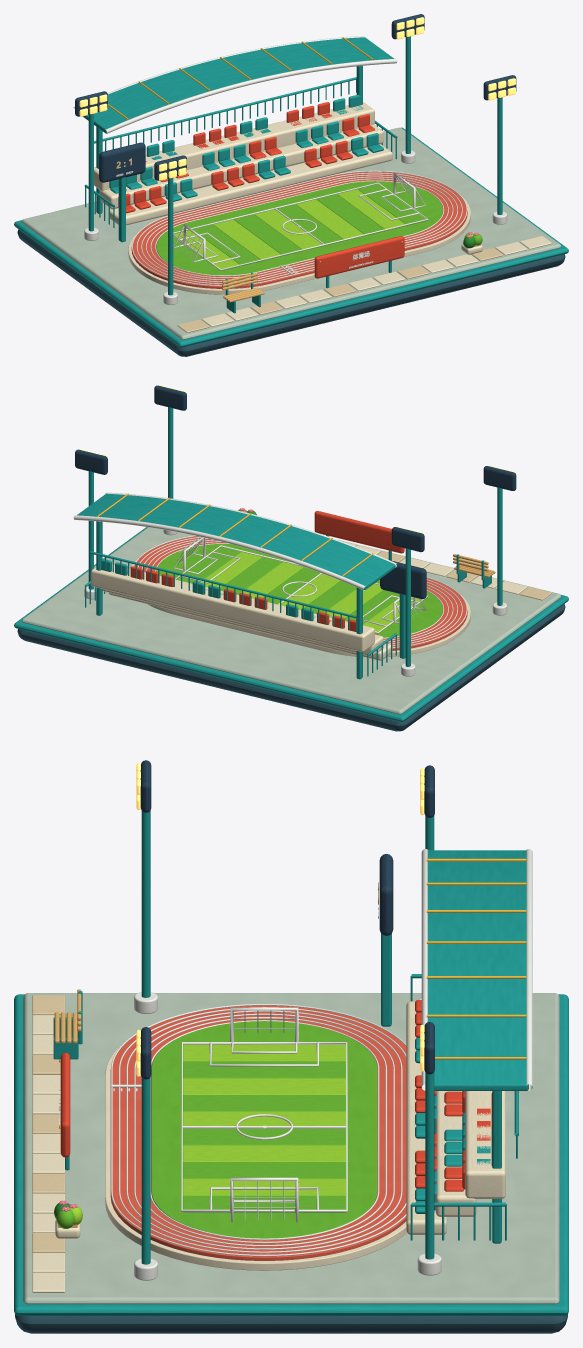
Rendered from 05_stadium.glb.
The picture shows the model from 3 angles, top to bottom: view 1: azimuth 30°, elevation 25°; view 2: azimuth 150°, elevation 25°; view 3: azimuth 270°, elevation 25°; orthographic projection. The views are drawn at different scales.
Visible parts, largest first — view 1: 05_stadium_Architecture, 05_stadium_Display_Base, 05_stadium_Signage, 05_stadium_Landscaping; view 2: 05_stadium_Architecture, 05_stadium_Display_Base, 05_stadium_Signage, 05_stadium_Landscaping; view 3: 05_stadium_Architecture, 05_stadium_Display_Base, 05_stadium_Landscaping, 05_stadium_Signage.
Boxes of the visible parts, x1=… form: 05_stadium_Architecture: x1=73, y1=14, x2=516, y2=305; 05_stadium_Display_Base: x1=14, y1=127, x2=568, y2=356; 05_stadium_Signage: x1=116, y1=158, x2=404, y2=278; 05_stadium_Landscaping: x1=222, y1=232, x2=482, y2=313; 05_stadium_Architecture: x1=73, y1=385, x2=516, y2=679; 05_stadium_Display_Base: x1=14, y1=527, x2=568, y2=731; 05_stadium_Signage: x1=314, y1=511, x2=404, y2=553; 05_stadium_Landscaping: x1=238, y1=508, x2=495, y2=588; 05_stadium_Architecture: x1=55, y1=760, x2=532, y2=1280; 05_stadium_Display_Base: x1=14, y1=993, x2=568, y2=1333; 05_stadium_Landscaping: x1=53, y1=989, x2=82, y2=1228; 05_stadium_Signage: x1=59, y1=882, x2=378, y2=1157.
Bounding box in the file's own units: 12.44 × 5.09 × 9.23.
Materials: 3 (3 with a texture image).
